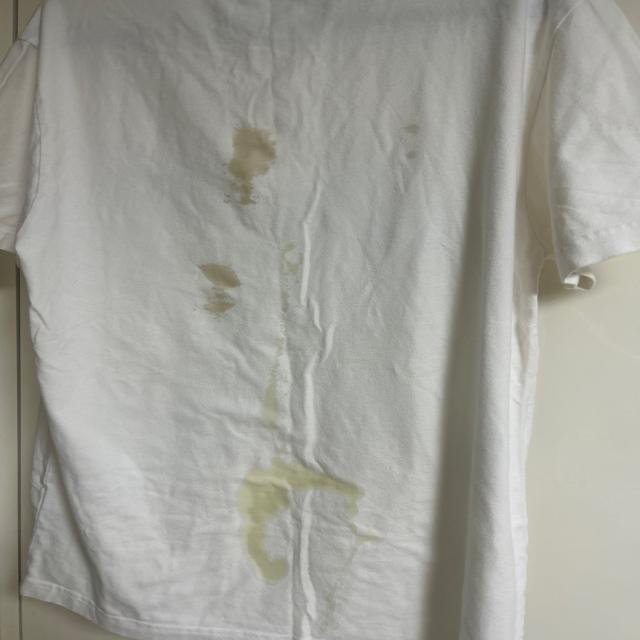stain: (225, 123, 275, 204), (233, 495, 297, 546), (233, 462, 325, 496), (242, 538, 295, 592), (259, 368, 283, 431), (208, 254, 242, 292), (204, 286, 238, 322), (318, 478, 365, 504), (271, 252, 300, 284), (346, 527, 372, 561), (398, 122, 421, 159), (339, 500, 363, 526), (264, 446, 296, 465), (271, 288, 292, 314), (324, 581, 336, 612), (272, 344, 287, 366)
